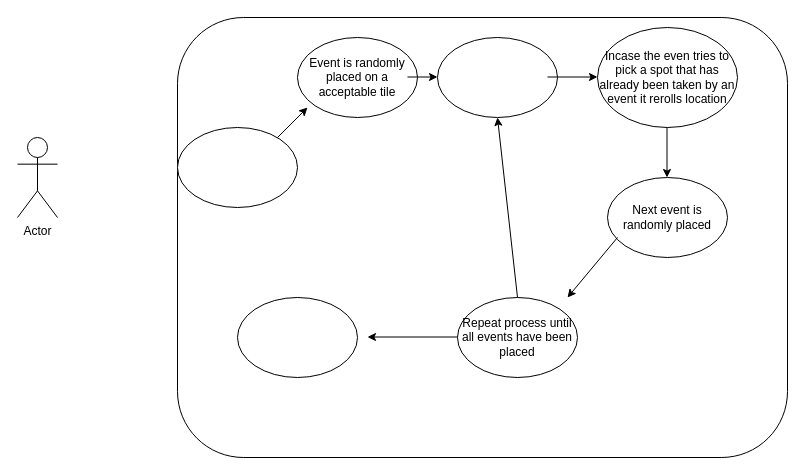
The diagram is 805 pixels wide and 475 high, and some of its shapes have lost their labels. The centre of each missing label's shape, as x and y in pixels:
"All events have been placed" belongs at point 297,337.
"Next even is placed on a random acceptable spot" belongs at point 497,77.
"Player enters a new floor" belongs at point 237,167.
